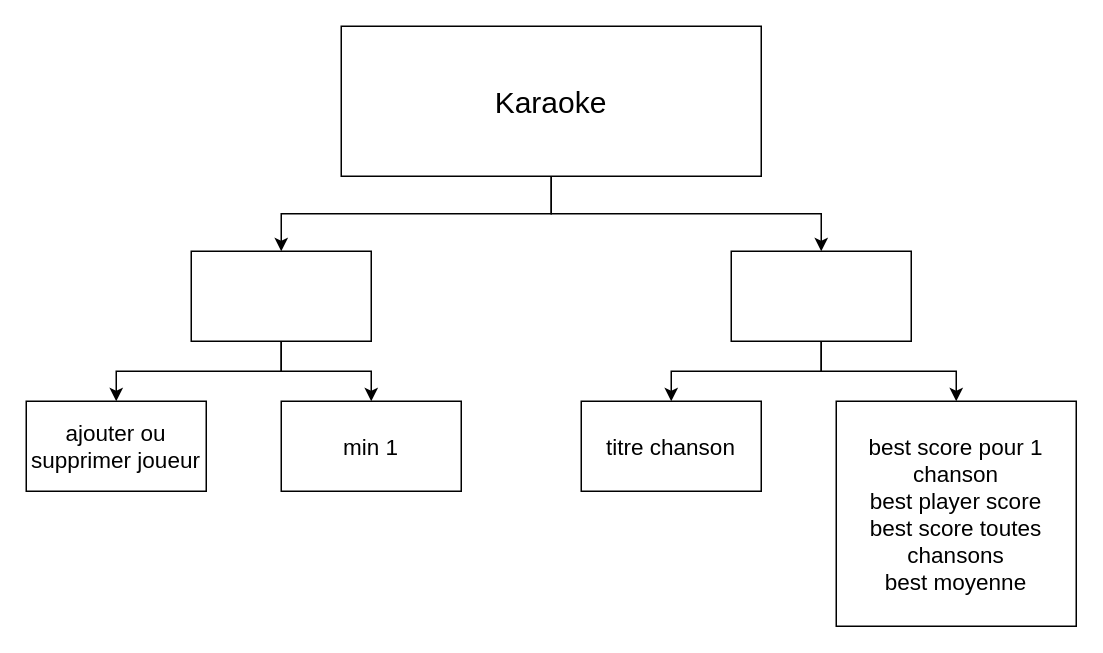
This 1103x653 diagram has some shape labels left out. The shapes that lost their labels are listed below. From the top down, each one's centre as x and y in pixels, then its label:
the point at 280,295: nombre joueurs
the point at 820,295: nombre chansons
